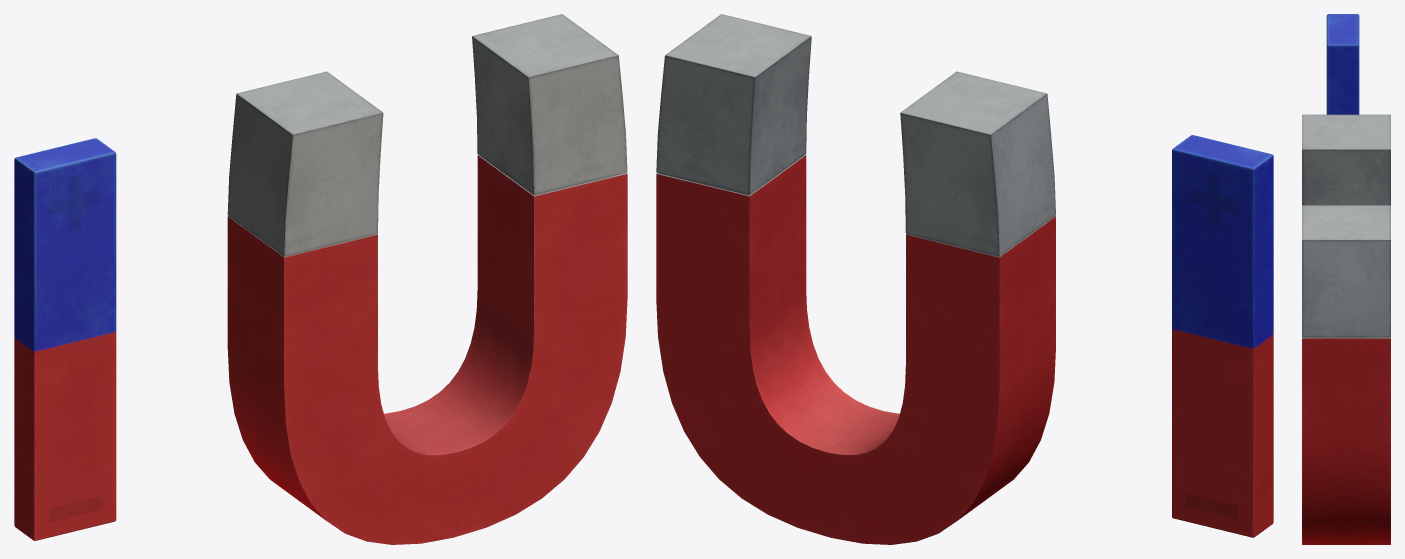
File: magnet 1.glb
The picture shows the model from 3 angles, left to right: view 1: azimuth 30°, elevation 25°; view 2: azimuth 150°, elevation 25°; view 3: azimuth 270°, elevation 25°; orthographic projection. The views are drawn at different scales.
Visible parts, largest first — view 1: typeMesh1, pCube1; view 2: typeMesh1, pCube1; view 3: typeMesh1, pCube1.
Part boxes in pixels (x1=…): typeMesh1: x1=227, y1=14, x2=627, y2=544; pCube1: x1=14, y1=138, x2=116, y2=540; typeMesh1: x1=656, y1=14, x2=1055, y2=544; pCube1: x1=1172, y1=135, x2=1273, y2=537; typeMesh1: x1=1302, y1=114, x2=1390, y2=544; pCube1: x1=1326, y1=14, x2=1359, y2=114.
Size of the model in its own units: 14.76 by 11.04 by 2.5.
Materials: 1 (1 with a texture image).
